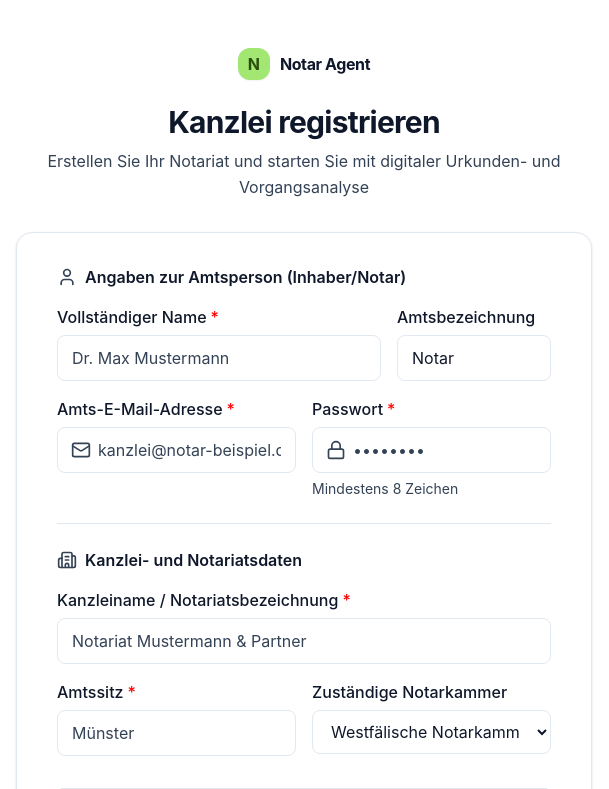
RegisterPage › zeigt bei ausstehender E-Mail-Bestätigung den Hinweis statt Weiterleitung
The width and height of the screenshot is (609, 789).
Step 1. Type "Dr. Neuer Notar" into the field labelled "Vollständiger Name*" → (219, 358), box [57,335,381,381]
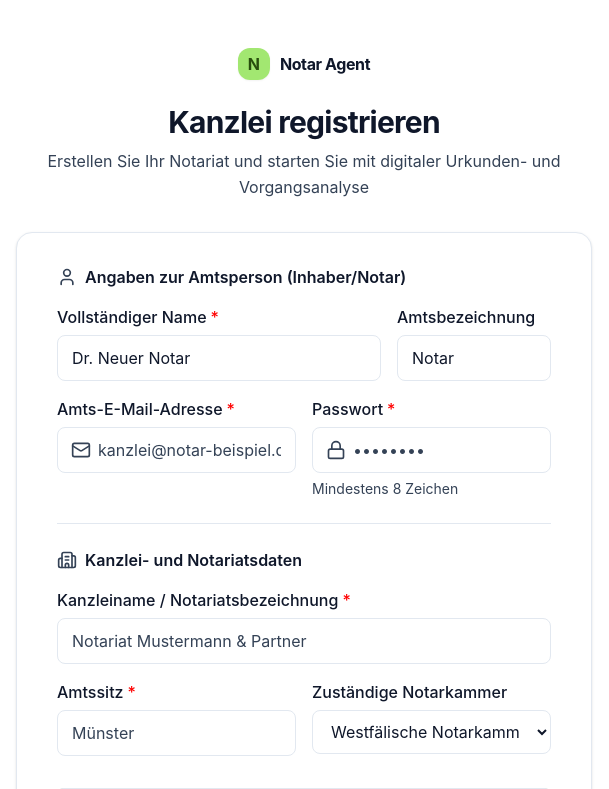
Step 2. Type "neu@kanzlei.de" into the field labelled "Amts-E-Mail-Adresse*" → (176, 450), box [57,427,296,473]
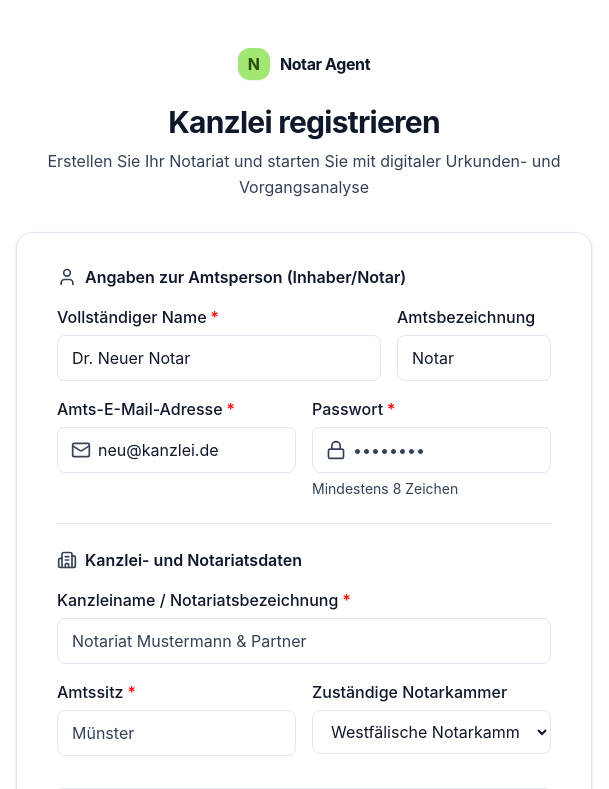
Step 3. Type "Password123!" into the password field labelled "Passwort*" → (432, 450), box [312,427,551,473]
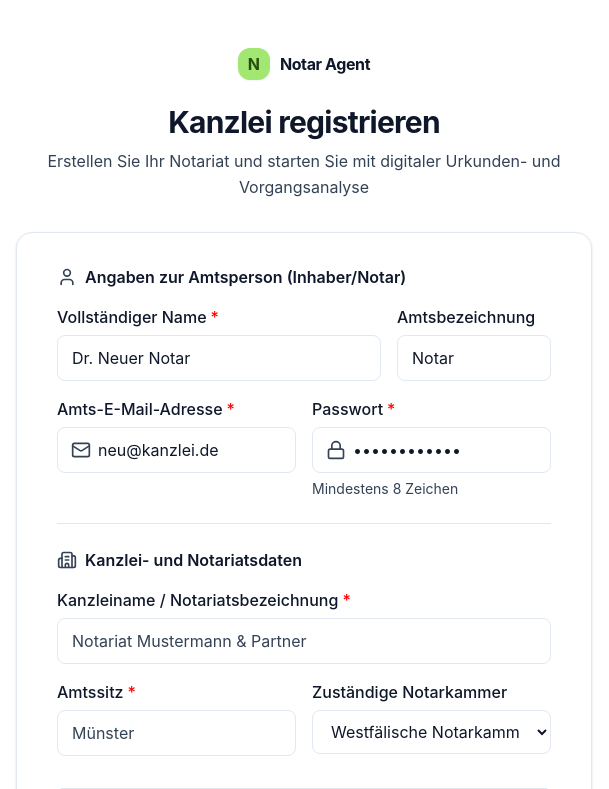
Step 4. Type "Notariat Neu" into the field labelled "Kanzleiname / Notariatsbezeichnung*" → (304, 641), box [57,618,551,664]
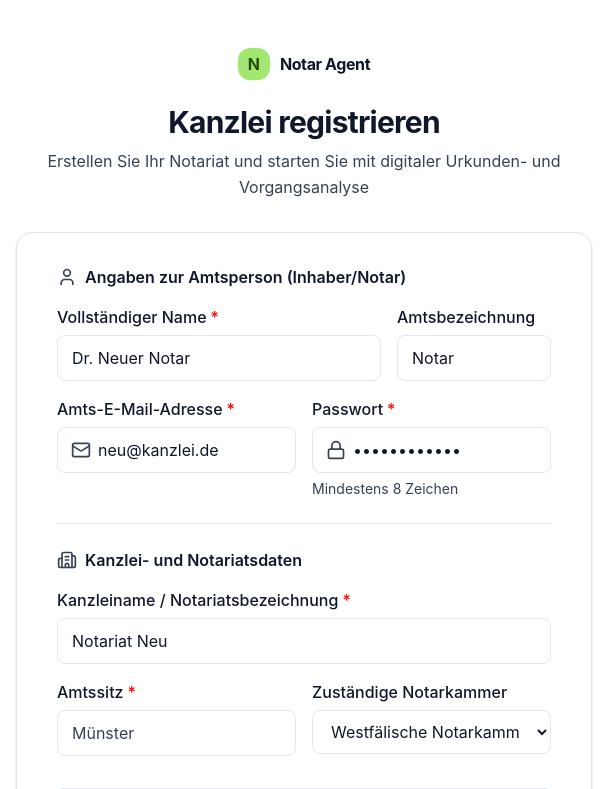
Step 5. Type "Köln" into the field labelled "Amtssitz*" → (176, 733), box [57,710,296,756]
(page scrolled)
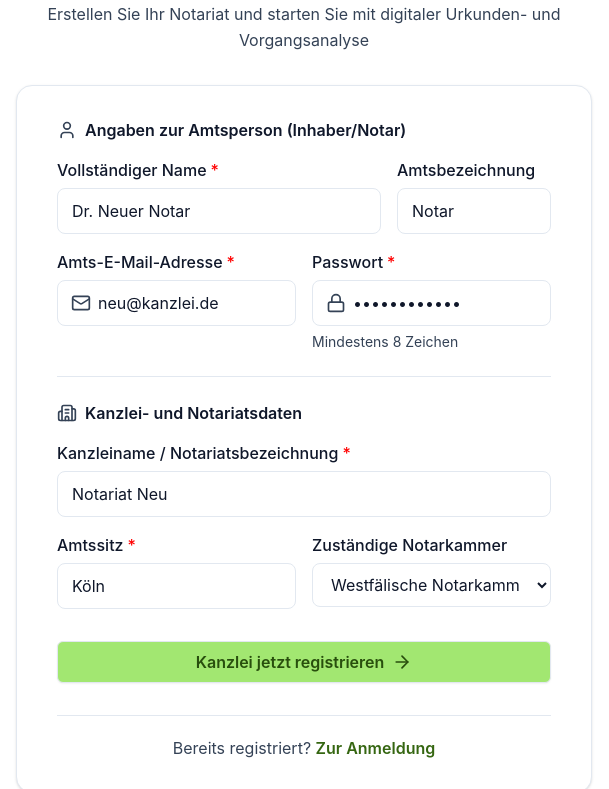
Step 6. Submit the form named "Kanzlei", box [57,118,551,683]
(page scrolled)
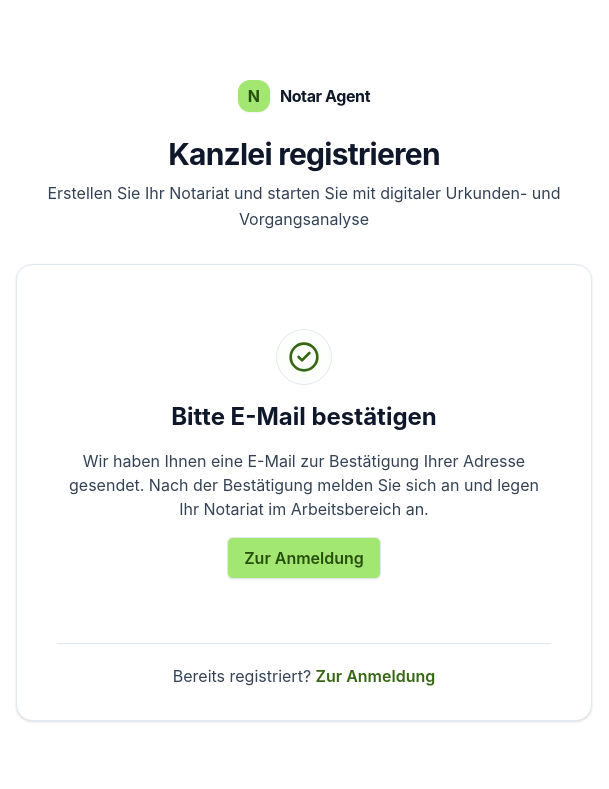
Expected: the heading "Bitte E-Mail bestätigen" is shown, [171,402,437,430]
Expected: the button "Zur Anmeldung" is shown, [227,536,381,578]
